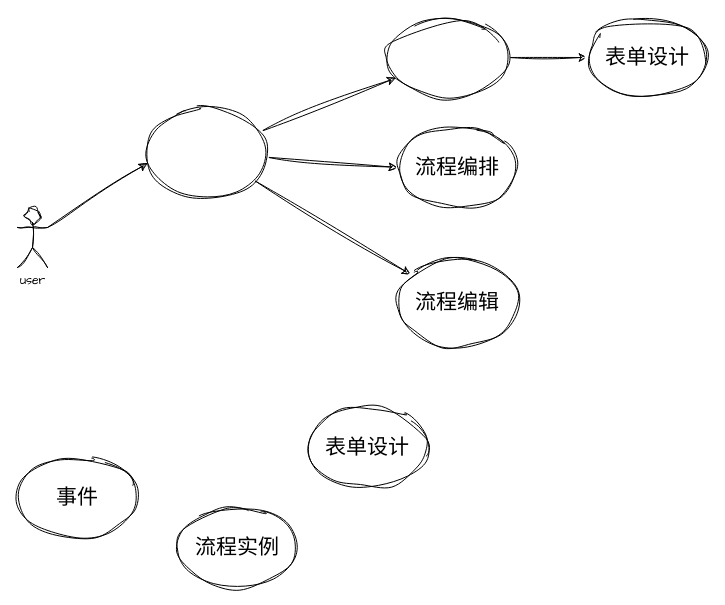
This 725x605 diagram has some shape labels left out. Each missing label, with the centre of its shape:
"动作设计" goes at pixel 447 57.
"流程模板" goes at pixel 207 152.
